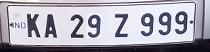2: (67, 13, 85, 38)
9: (86, 13, 101, 37), (157, 10, 172, 34), (139, 10, 153, 35), (173, 9, 187, 34)
A: (24, 11, 42, 36), (43, 11, 59, 38)
Z: (112, 11, 128, 37)
